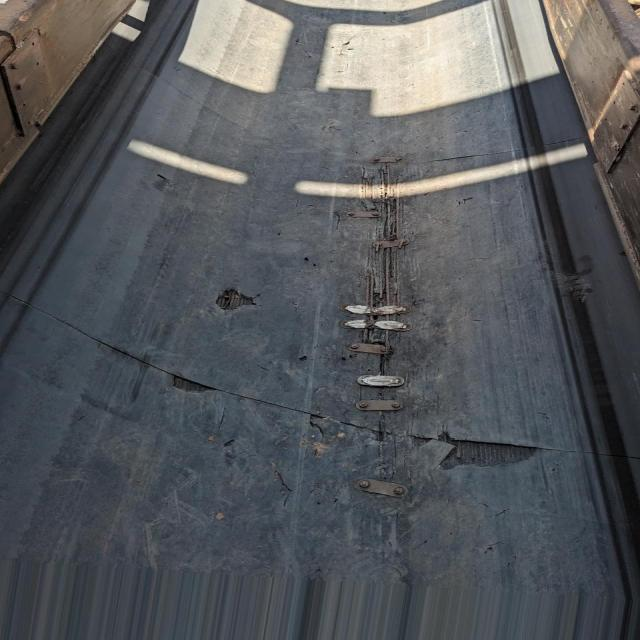Tear: (28, 310, 557, 469), (403, 143, 503, 165), (208, 286, 262, 310), (148, 165, 178, 199)
patch work: (335, 158, 415, 417), (345, 440, 425, 505)
